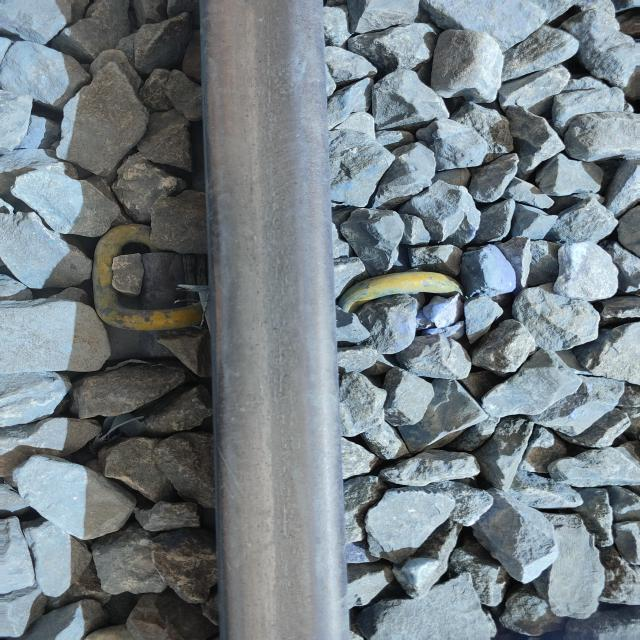Good Fasteners: (62, 203, 239, 383), (303, 232, 509, 374)
